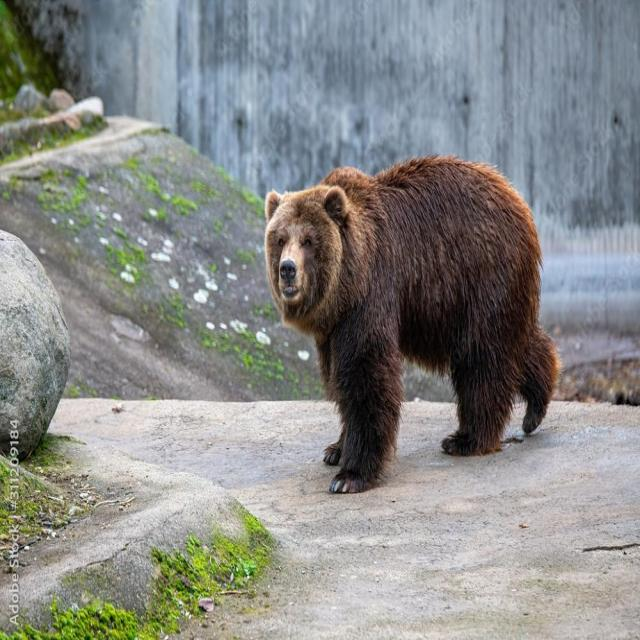Bear: (264, 155, 563, 496)
